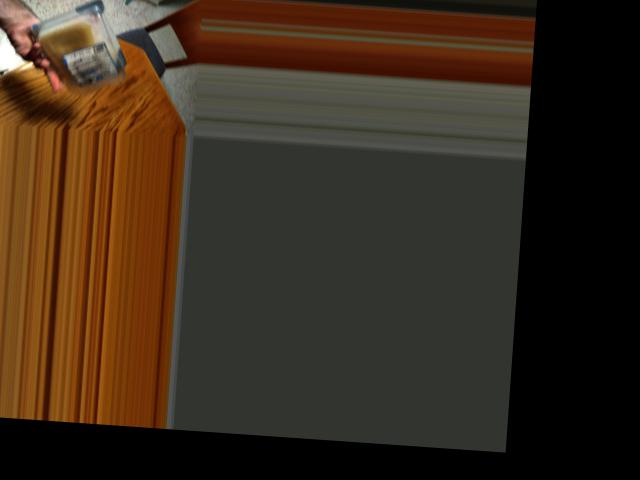cheese: (30, 1, 137, 87)
